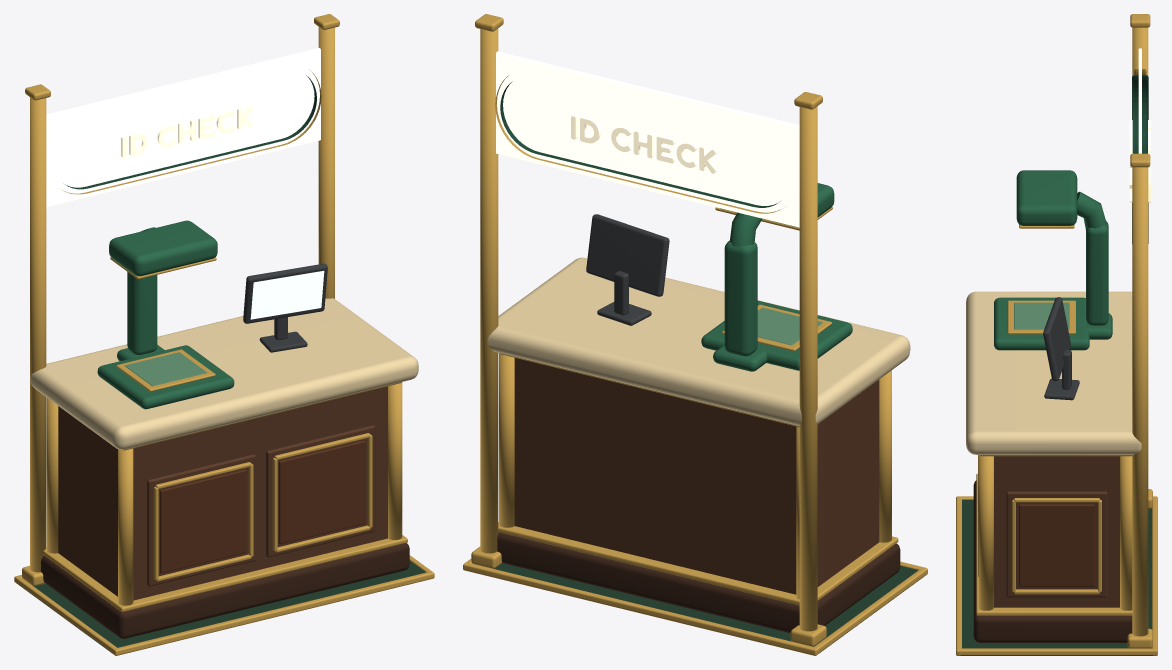
File: security_booth_tier3.glb
The picture shows the model from 3 angles, left to right: view 1: azimuth 30°, elevation 25°; view 2: azimuth 150°, elevation 25°; view 3: azimuth 270°, elevation 25°; orthographic projection. The views are drawn at different scales.
Visible parts, largest first — view 1: Top, Body, SignGlow, Plinth, RearPost-1, Front0Inset, Front1Inset, LampHead, RearPost1, PlinthBrass, Mat, Front1 (+16 smaller); view 2: Body, Top, SignGlow, Plinth, RearPost-1, RearPost1, Monitor, PlinthBrass, Mat, ArmCol, MatEdge1, Column11 (+11 smaller); view 3: Top, Body, RearPost1, EndInset, Plinth, Mat, LampHead, End, Column1-1, ScanPad, ArmCol, Column11 (+19 smaller).
Boxes of the visible parts, x1,y1,x2,y2 form: Top: (30,298,418,449); Body: (58,386,387,600); SignGlow: (46,48,320,206); Plinth: (41,543,409,638); RearPost-1: (30,97,46,572); Front0Inset: (160,469,246,573); Front1Inset: (279,440,365,544); LampHead: (109,220,217,276); RearPost1: (318,27,334,298); PlinthBrass: (43,535,407,612); Mat: (16,561,425,655); Front1: (266,425,375,557); Body: (514,358,879,594); Top: (487,257,910,426); SignGlow: (496,51,799,227); Plinth: (497,532,900,633); RearPost-1: (799,106,817,631); RearPost1: (480,28,498,553); Monitor: (586,214,669,296); PlinthBrass: (498,522,898,605); Mat: (493,563,925,653); ArmCol: (724,240,757,356); MatEdge1: (463,562,818,655); Column11: (499,353,514,527); Top: (966,291,1141,454); Body: (994,456,1119,607); RearPost1: (1132,167,1148,636); EndInset: (1019,504,1094,586); Plinth: (973,480,1132,642); Mat: (960,499,1153,655); LampHead: (1016,170,1077,225); End: (1006,491,1107,597); Column1-1: (978,455,993,610); ScanPad: (994,297,1089,350); ArmCol: (1086,221,1108,325); Column11: (1120,456,1132,610).
Size of the model in its own units: 1.45 by 2.15 by 0.8001.
